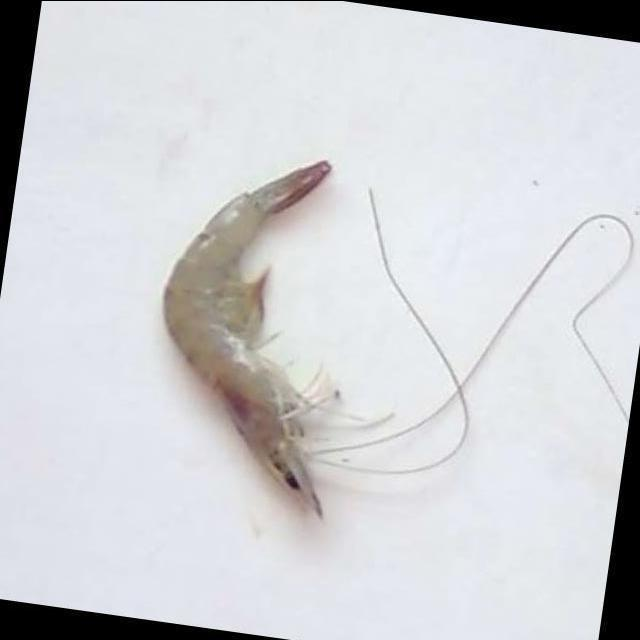shrimp: (163, 160, 335, 517)
